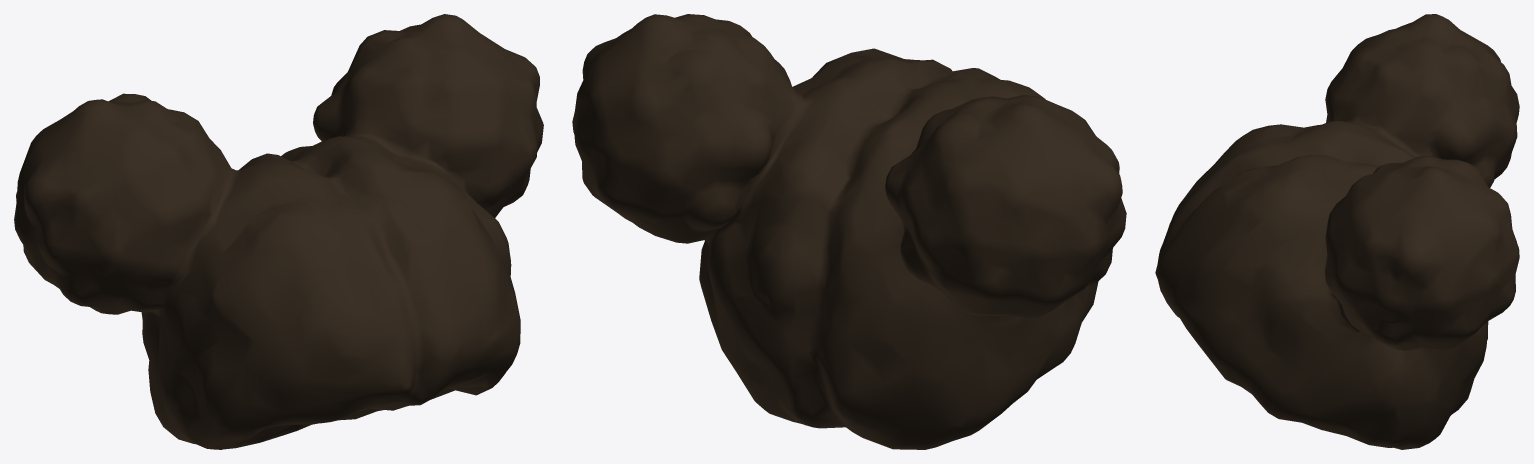
File: SM_Dx_Hair_Female_03.glb
The picture shows the model from 3 angles, left to right: view 1: azimuth 30°, elevation 25°; view 2: azimuth 150°, elevation 25°; view 3: azimuth 270°, elevation 25°; orthographic projection. The views are drawn at different scales.
Parts seen in each view (by area): view 1: SM_ATB_Abbi__Hair_03; view 2: SM_ATB_Abbi__Hair_03; view 3: SM_ATB_Abbi__Hair_03.
Part boxes in pixels (x1,y1,x2,y2): SM_ATB_Abbi__Hair_03: (14, 14, 543, 449); SM_ATB_Abbi__Hair_03: (572, 14, 1126, 449); SM_ATB_Abbi__Hair_03: (1155, 14, 1519, 449).
Size of the model in its own units: 1.59 by 1.09 by 1.1.
